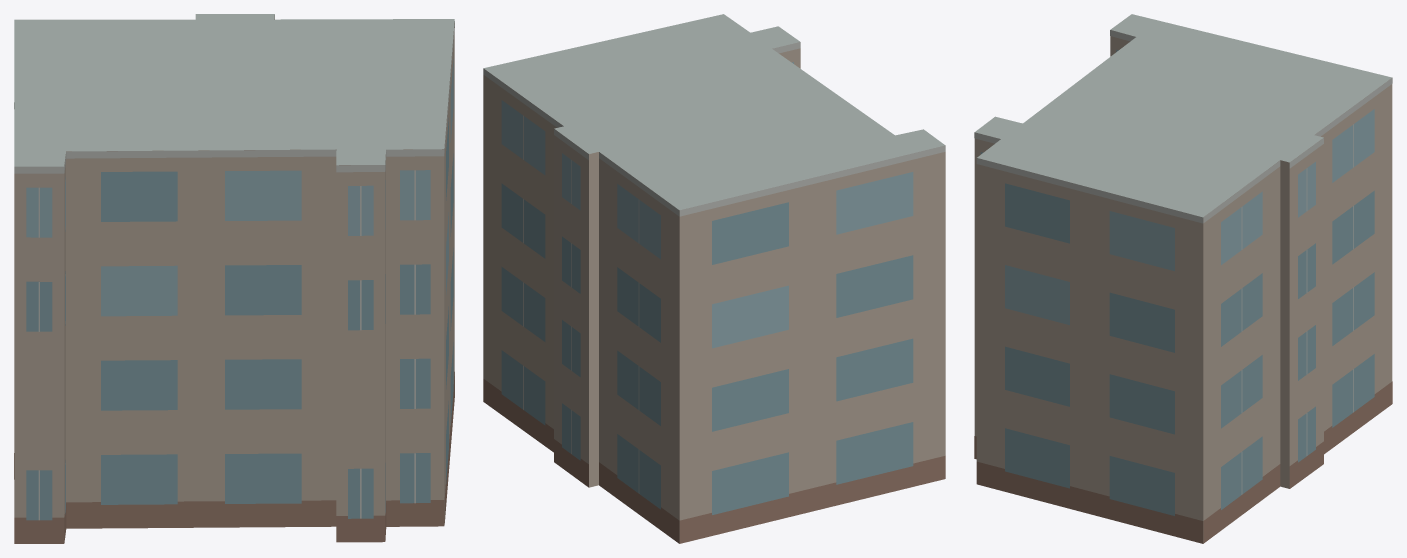
Rendered from survey-upis-32930662.glb.
The picture shows the model from 3 angles, left to right: view 1: azimuth 30°, elevation 25°; view 2: azimuth 150°, elevation 25°; view 3: azimuth 270°, elevation 25°; orthographic projection. The views are drawn at different scales.
Parts seen in each view (by area): view 1: survey-upis-32930662.tmp; view 2: survey-upis-32930662.tmp; view 3: survey-upis-32930662.tmp.
Boxes of the visible parts, left/top/right/bottom form: survey-upis-32930662.tmp: left=14, top=14, right=454, bottom=543; survey-upis-32930662.tmp: left=483, top=14, right=945, bottom=543; survey-upis-32930662.tmp: left=974, top=14, right=1392, bottom=543.
Size of the model in its own units: 17.24 by 12.9 by 14.97.
